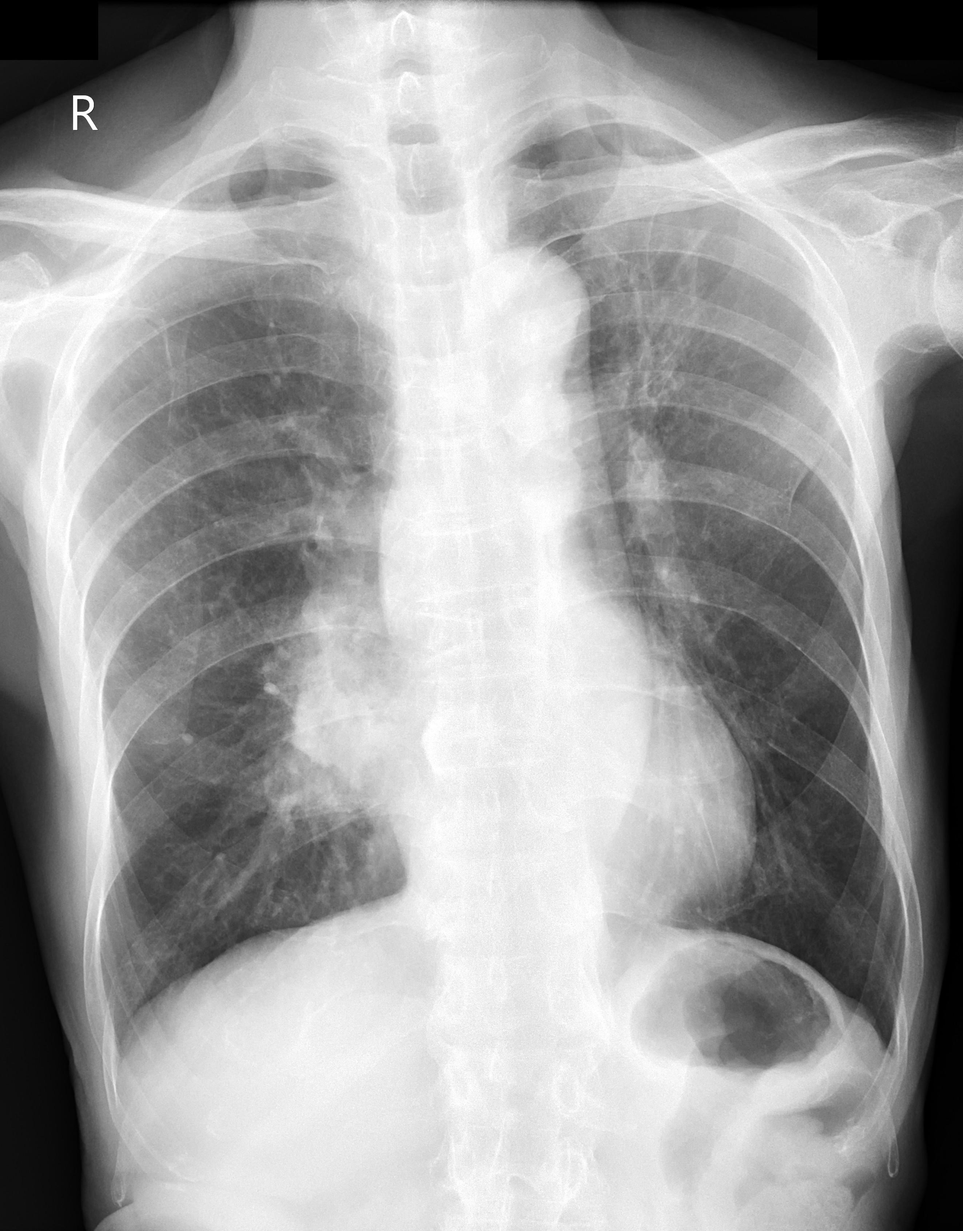Aortic enlargement: (481, 246, 588, 380)
Pulmonary fibrosis: (616, 225, 712, 406)
